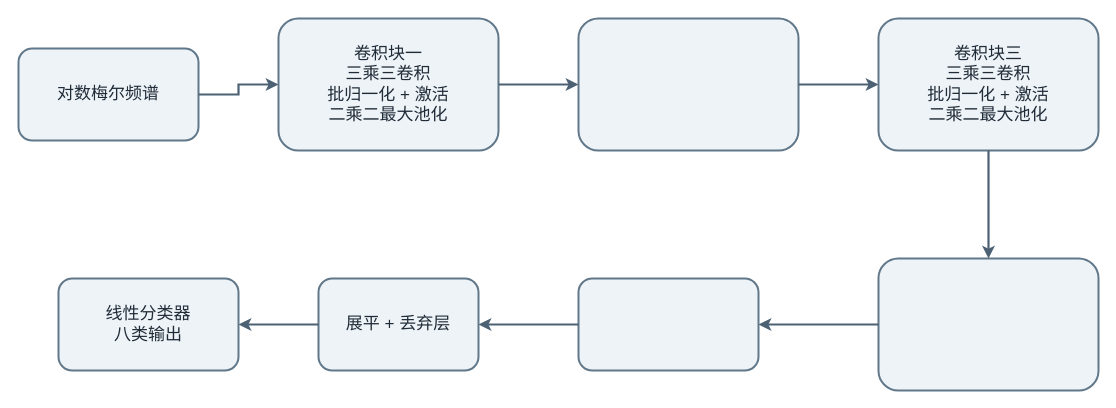
The diagram is 1116 pixels wide and 408 high, and some of its shapes have lost their labels. The centre of each missing label's shape, as x and y in pixels:
卷积块二 三乘三卷积 批归一化 + 激活 二乘二最大池化: (688,84)
卷积块四 三乘三卷积 批归一化 + 激活 二乘二最大池化: (988,324)
自适应平均池化 四乘四: (668,324)
